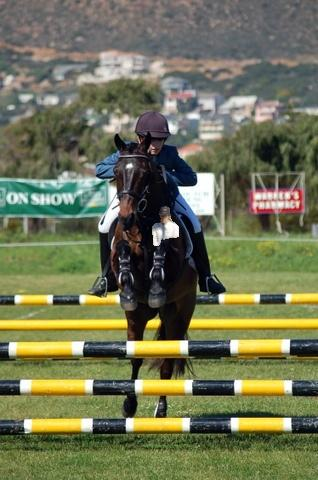tampered: (153, 207, 179, 246)
